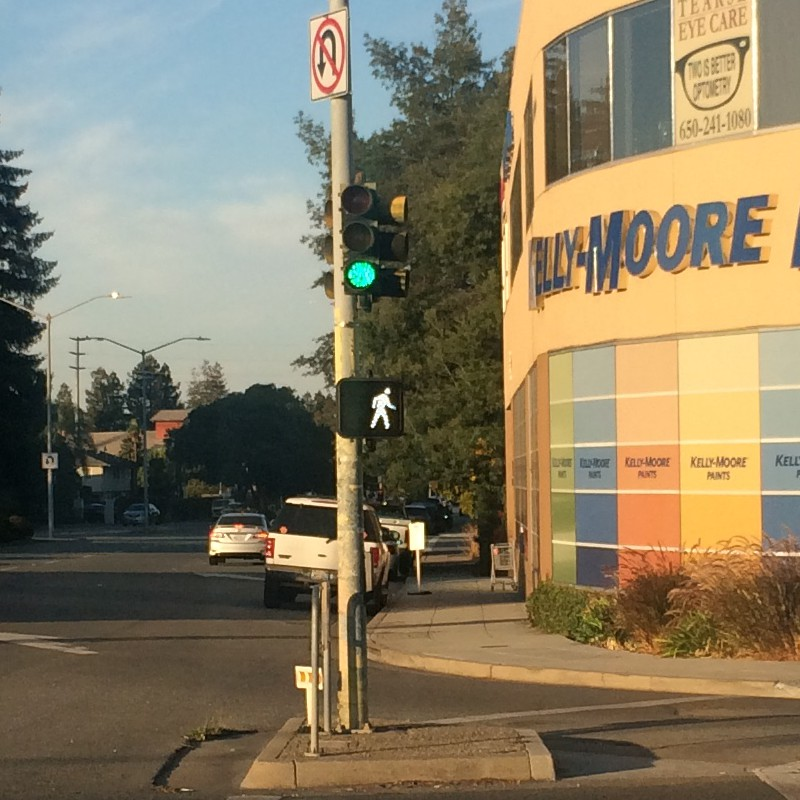go: (329, 377, 412, 440)
